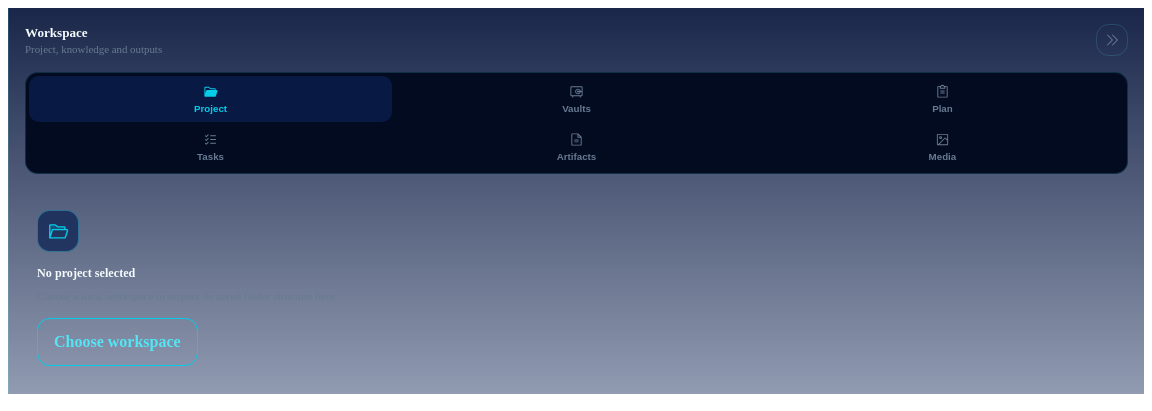
Test: ConversationContextPanel › keeps the chat plan honest until Agent mode is selected
Click the tab "Plan".
click(942, 99)  # box top-left (761, 76), bottom-right (1124, 122)
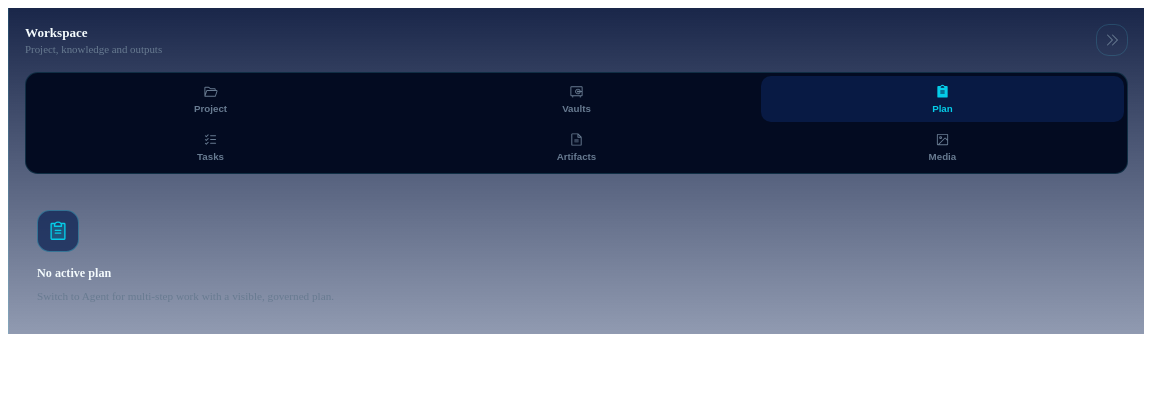
expect the text "No active plan" is shown: met, box top-left (37, 266), bottom-right (111, 280)
expect the text "Switch to Agent" is shown: met, box top-left (37, 290), bottom-right (334, 302)
